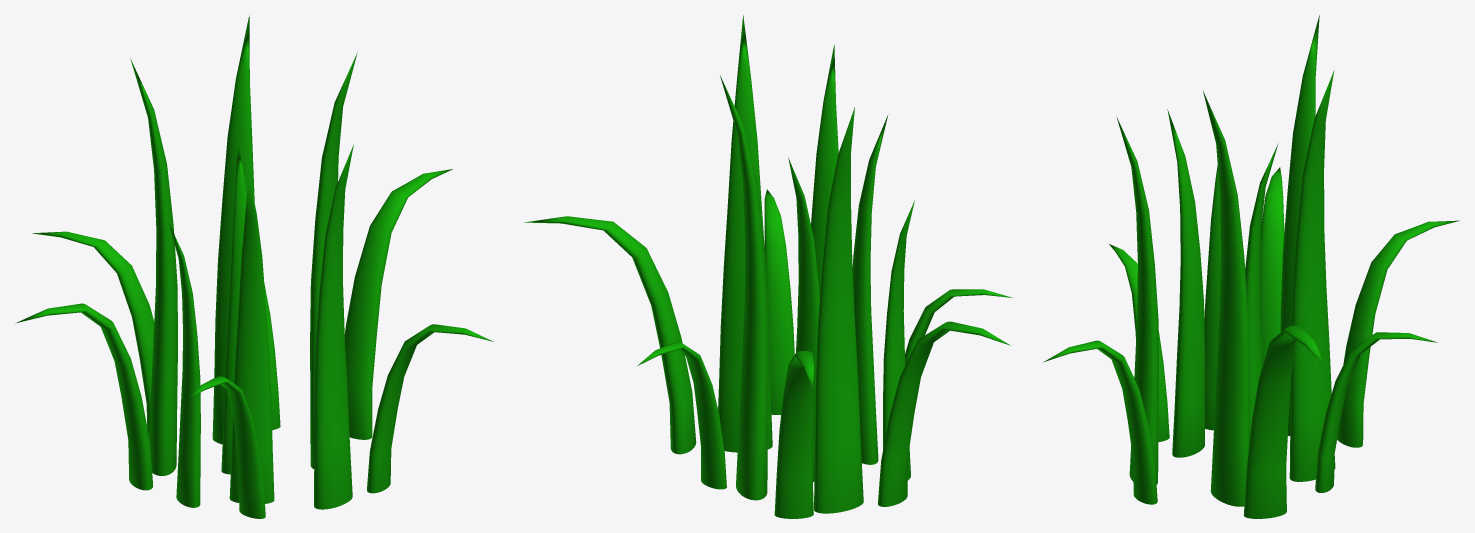
Rendered from Hierbajo.fbx.
The picture shows the model from 3 angles, left to right: view 1: azimuth 30°, elevation 25°; view 2: azimuth 150°, elevation 25°; view 3: azimuth 270°, elevation 25°; orthographic projection.
Visible parts, largest first — view 1: Cylinder; view 2: Cylinder; view 3: Cylinder.
Boxes of the visible parts, left/top/right/bottom form: Cylinder: left=15, top=15, right=493, bottom=518; Cylinder: left=524, top=15, right=1012, bottom=518; Cylinder: left=1043, top=15, right=1459, bottom=518.
Size of the model in its own units: 331 by 285 by 260.
